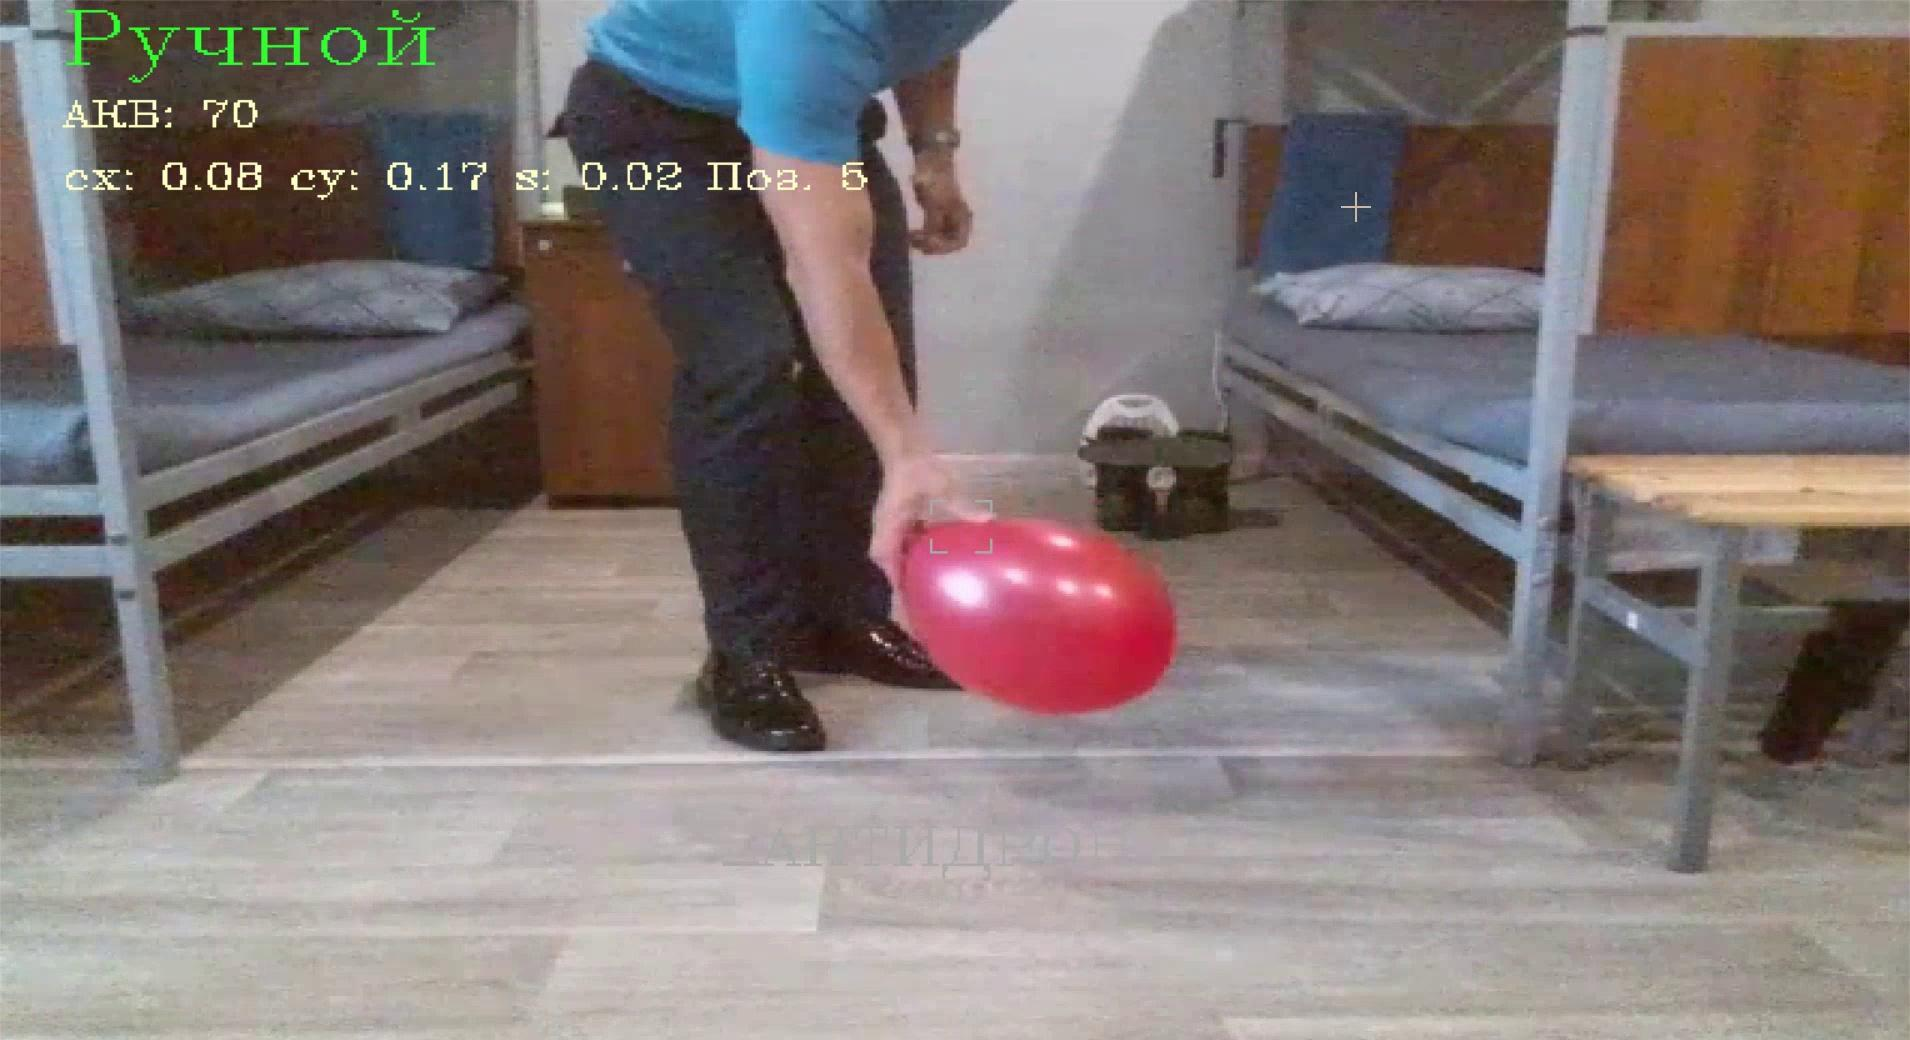red: (890, 512, 1184, 722)
